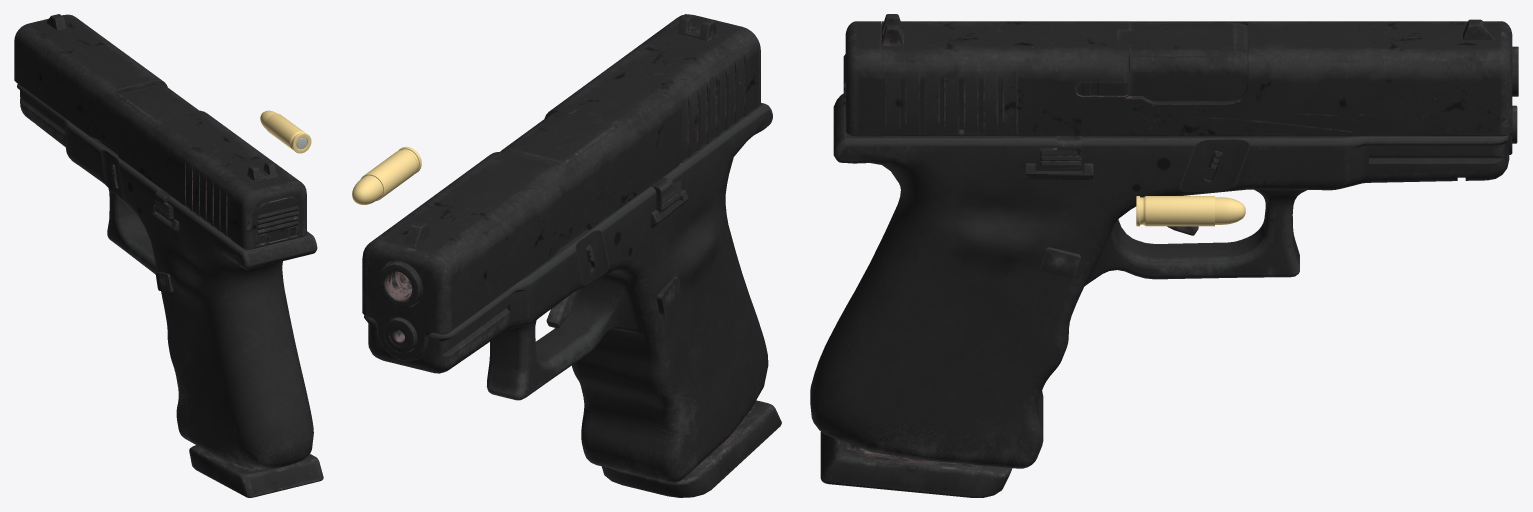
File: pistola.glb
3 renders of one model, left to right at view 1: azimuth 30°, elevation 25°; view 2: azimuth 150°, elevation 25°; view 3: azimuth 270°, elevation 25°, orthographic. The views are drawn at different scales.
Parts seen in each view (by area): view 1: GL_Frame, GL_Slide, GL_Magazine, GL_Barrel, Bullet_Casing, GL_SlideStop1; view 2: GL_Frame, GL_Slide, GL_Barrel, GL_Magazine, Bullet_Casing, GL_SlideStop1, Bullet.017, GL_MagRelease, GL_Trigger; view 3: GL_Frame, GL_Slide, GL_Barrel, GL_Magazine, Bullet_Casing, GL_SlideStop2, GL_MagRelease.
Part boxes in pixels (x1,y1,x2,y2): GL_Frame: (17,84,317,468); GL_Slide: (14,14,306,249); GL_Magazine: (189,445,323,497); GL_Barrel: (115,83,198,122); Bullet_Casing: (265,113,311,153); GL_SlideStop1: (154,190,173,220); GL_Frame: (364,103,772,482); GL_Slide: (362,14,760,361); GL_Barrel: (377,111,616,308); GL_Magazine: (602,400,781,497); Bullet_Casing: (360,146,421,200); GL_SlideStop1: (650,177,681,212); Bullet.017: (352,175,383,204); GL_MagRelease: (657,276,681,315); GL_Trigger: (546,288,580,328); GL_Frame: (810,93,1517,468); GL_Slide: (843,14,1512,154); GL_Barrel: (1118,22,1518,101); GL_Magazine: (820,431,1012,497); Bullet_Casing: (1136,196,1214,226); GL_SlideStop2: (1040,136,1081,168); GL_MagRelease: (1039,247,1080,278).
Size of the model in its own units: 0.1054 by 0.1817 by 0.2574.
Materials: 3 (3 with a texture image).
